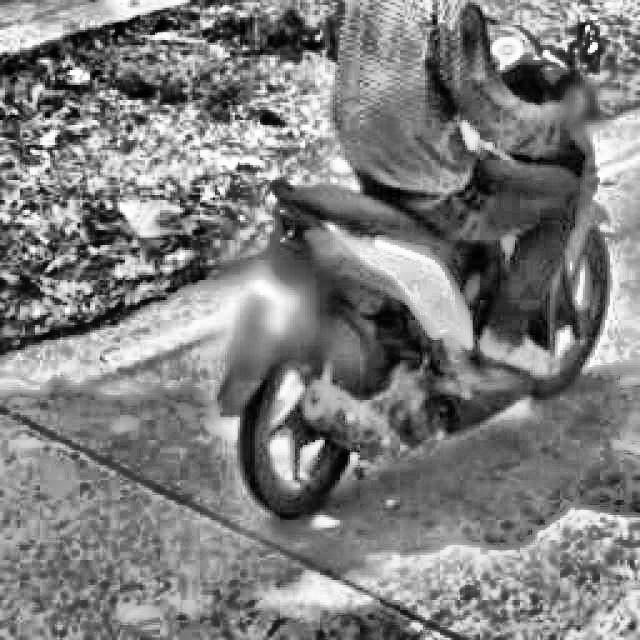motorcycle: (164, 16, 638, 519)
